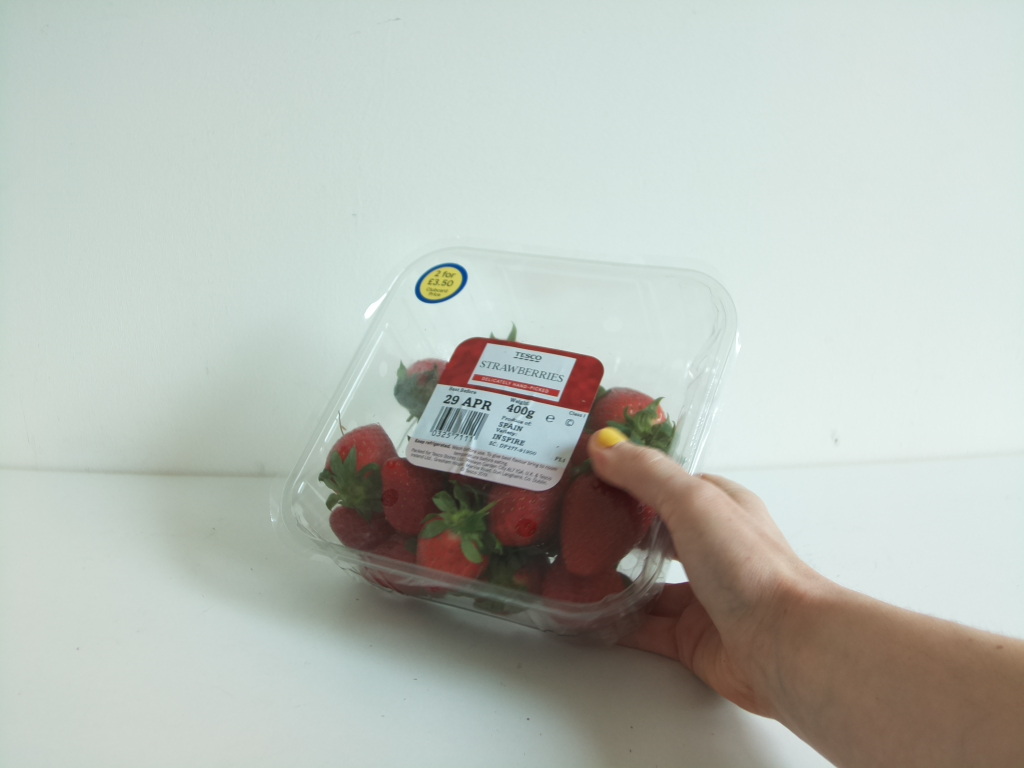soft-fruit: (282, 242, 738, 633)
